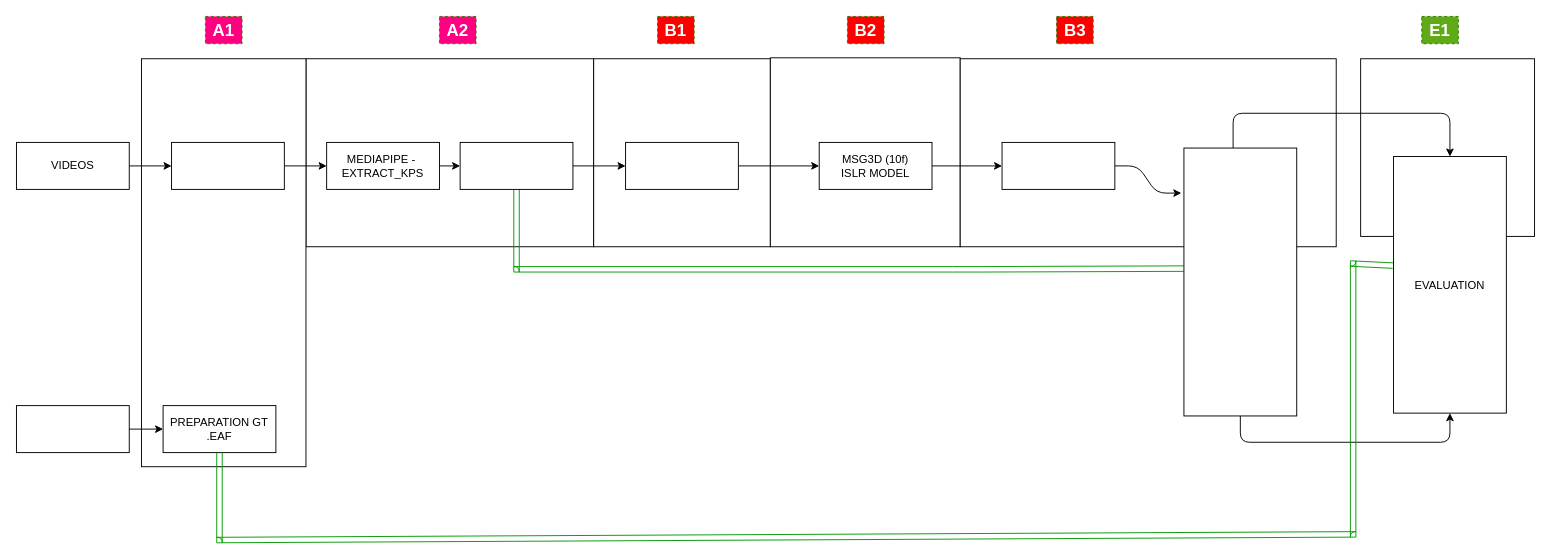
Some shapes in this 1551 by 559 pixel diagram are drawn without their labels. Here are the shapes that lost their labels. From the top down, the box of each, then its label:
(171, 141, 284, 189): PREPROCESADO
(459, 141, 573, 189): GEN_FEATURES
(625, 141, 738, 189): GEN_WINDOWS
(1001, 141, 1115, 189): SIGN SPOTTING Preparation
(1183, 147, 1297, 416): MSG3D - FILTER (25f)
(16, 405, 129, 453): ELAN files
